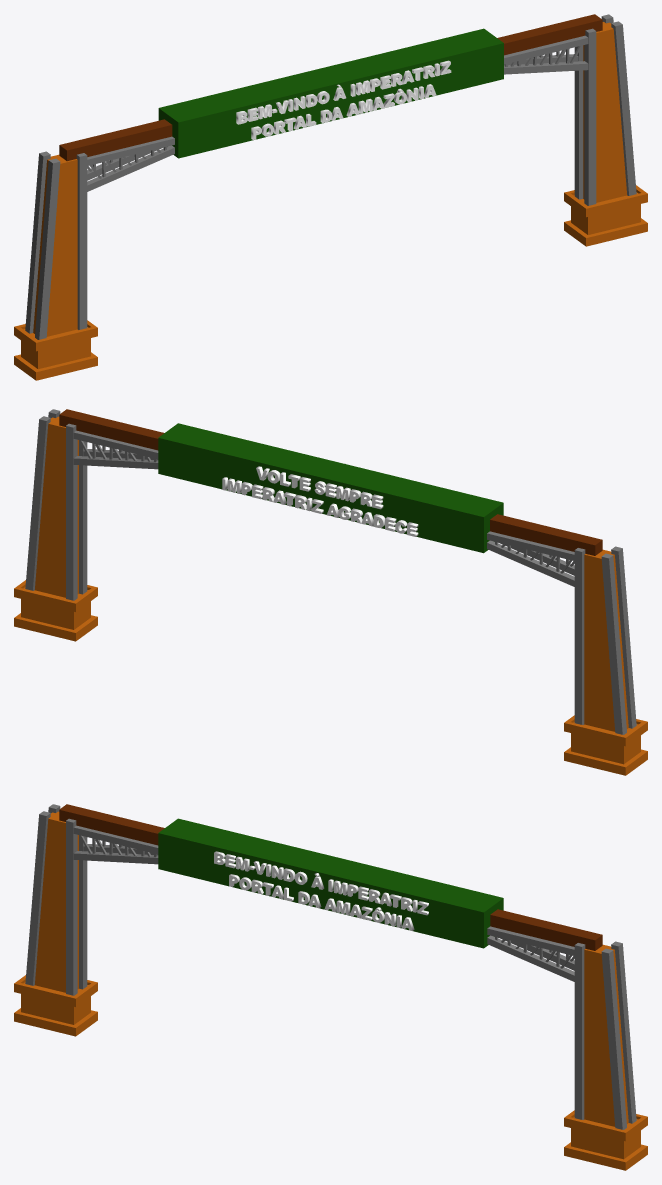
The model's file is Nome.fbx.
3 views of the same model, one above another, from view 1: azimuth 30°, elevation 25°; view 2: azimuth 150°, elevation 25°; view 3: azimuth 330°, elevation 25° (orthographic).
Parts seen in each view (by area): view 1: G1-ENTRADA; view 2: G1-ENTRADA; view 3: G1-ENTRADA.
Boxes of the visible parts, x1,y1,x2,y2 form: G1-ENTRADA: (14,14,647,380); G1-ENTRADA: (14,409,647,775); G1-ENTRADA: (14,804,647,1170).
Size of the model in its own units: 5464 by 1900 by 379.
